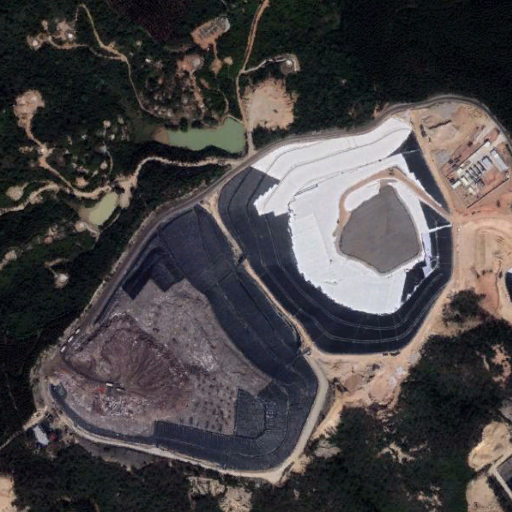lf: (47, 119, 453, 475)
